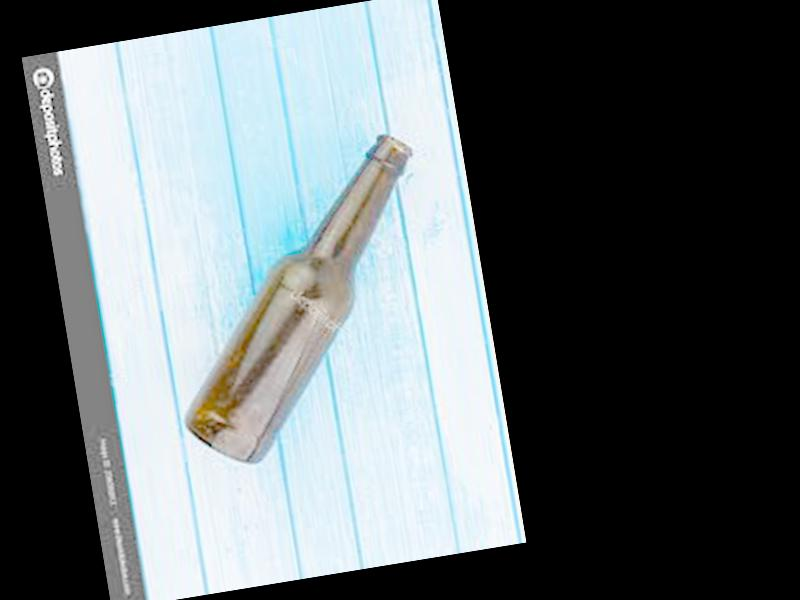Beer: (140, 132, 459, 474)
